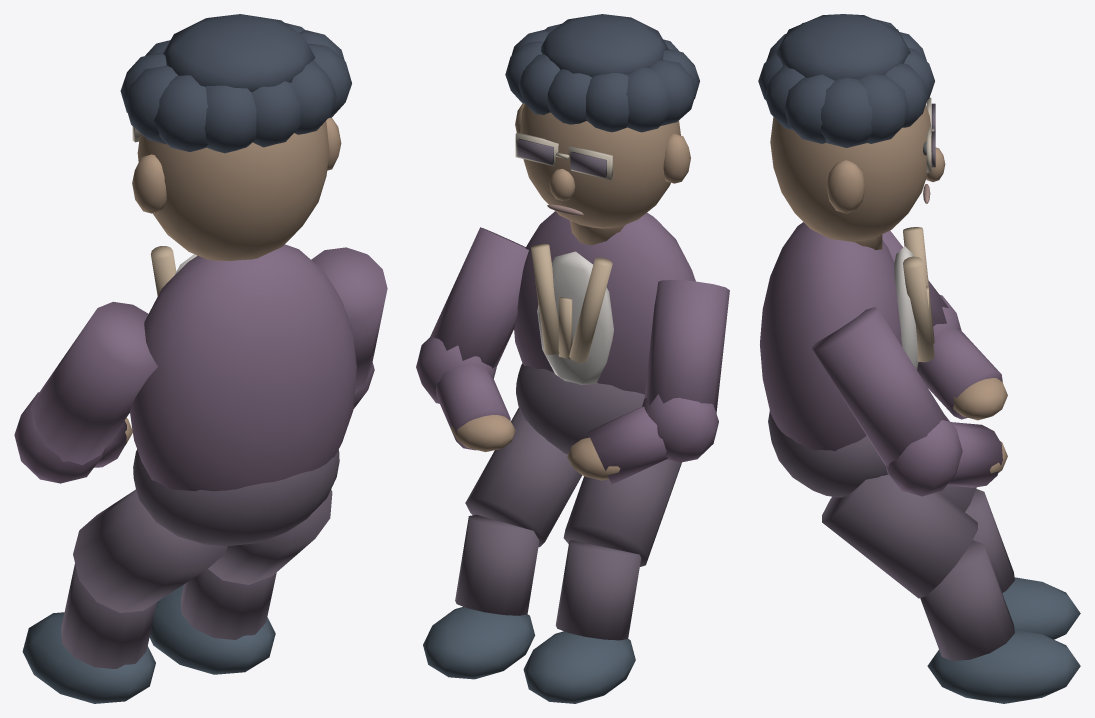
File: f3b-agent-3.glb
3 views of the same model, side by side, from view 1: azimuth 30°, elevation 25°; view 2: azimuth 150°, elevation 25°; view 3: azimuth 270°, elevation 25° (orthographic). The views are drawn at different scales.
Visible parts, largest first — view 1: f3b-agent-3-01, f3b-agent-3-07, f3b-agent-3-27, f3b-agent-3-31, f3b-agent-3-00, f3b-agent-3-26, f3b-agent-3-33, f3b-agent-3-32, f3b-agent-3-40, f3b-agent-3-34, f3b-agent-3-39, f3b-agent-3-38 (+11 smaller); view 2: f3b-agent-3-01, f3b-agent-3-07, f3b-agent-3-27, f3b-agent-3-34, f3b-agent-3-38, f3b-agent-3-31, f3b-agent-3-32, f3b-agent-3-39, f3b-agent-3-00, f3b-agent-3-40, f3b-agent-3-33, f3b-agent-3-26 (+22 smaller); view 3: f3b-agent-3-01, f3b-agent-3-07, f3b-agent-3-38, f3b-agent-3-34, f3b-agent-3-39, f3b-agent-3-40, f3b-agent-3-26, f3b-agent-3-00, f3b-agent-3-29, f3b-agent-3-35, f3b-agent-3-33, f3b-agent-3-14 (+15 smaller).
Part boxes in pixels (left/top/right/bottom): f3b-agent-3-01: left=130, top=244, right=356, bottom=491; f3b-agent-3-07: left=137, top=121, right=329, bottom=261; f3b-agent-3-27: left=31, top=301, right=158, bottom=465; f3b-agent-3-31: left=73, top=489, right=227, bottom=612; f3b-agent-3-00: left=133, top=449, right=339, bottom=545; f3b-agent-3-26: left=163, top=14, right=315, bottom=92; f3b-agent-3-33: left=22, top=612, right=155, bottom=703; f3b-agent-3-32: left=61, top=564, right=156, bottom=668; f3b-agent-3-40: left=149, top=584, right=275, bottom=674; f3b-agent-3-34: left=311, top=247, right=387, bottom=393; f3b-agent-3-39: left=180, top=569, right=276, bottom=639; f3b-agent-3-38: left=208, top=489, right=332, bottom=584; f3b-agent-3-01: left=514, top=211, right=695, bottom=394; f3b-agent-3-07: left=520, top=104, right=680, bottom=228; f3b-agent-3-27: left=644, top=280, right=729, bottom=413; f3b-agent-3-34: left=430, top=227, right=528, bottom=368; f3b-agent-3-38: left=465, top=407, right=582, bottom=547; f3b-agent-3-31: left=563, top=459, right=681, bottom=566; f3b-agent-3-32: left=555, top=540, right=641, bottom=640; f3b-agent-3-39: left=455, top=514, right=539, bottom=615; f3b-agent-3-00: left=516, top=363, right=644, bottom=454; f3b-agent-3-40: left=423, top=606, right=535, bottom=679; f3b-agent-3-33: left=523, top=631, right=635, bottom=703; f3b-agent-3-26: left=541, top=14, right=668, bottom=77; f3b-agent-3-01: left=760, top=222, right=902, bottom=451; f3b-agent-3-07: left=770, top=105, right=931, bottom=241; f3b-agent-3-38: left=822, top=474, right=977, bottom=598; f3b-agent-3-34: left=812, top=307, right=948, bottom=466; f3b-agent-3-39: left=920, top=540, right=1014, bottom=660; f3b-agent-3-40: left=927, top=630, right=1080, bottom=703; f3b-agent-3-26: left=776, top=14, right=910, bottom=80; f3b-agent-3-00: left=768, top=411, right=888, bottom=497; f3b-agent-3-29: left=917, top=328, right=1002, bottom=419; f3b-agent-3-35: left=885, top=416, right=962, bottom=496; f3b-agent-3-33: left=1002, top=577, right=1080, bottom=639; f3b-agent-3-14: left=821, top=77, right=872, bottom=147.
Bounding box in the file's own units: 1.11 × 2.17 × 0.984.
